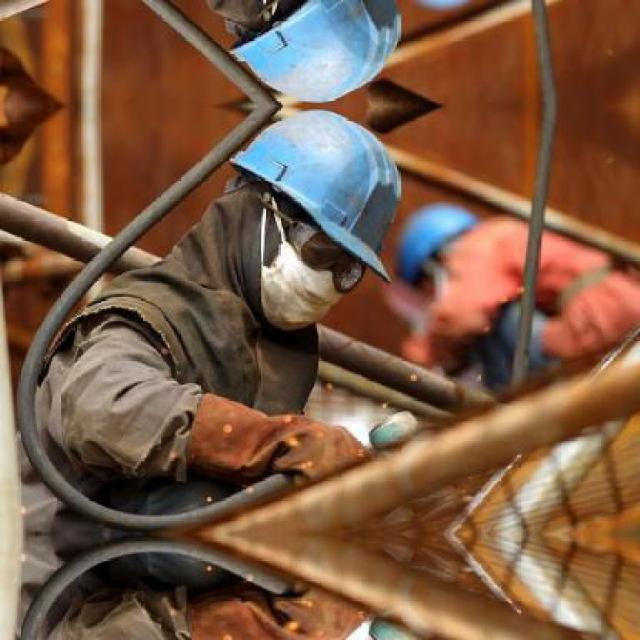helmet: (212, 106, 400, 319), (210, 0, 402, 105), (389, 197, 491, 298)
